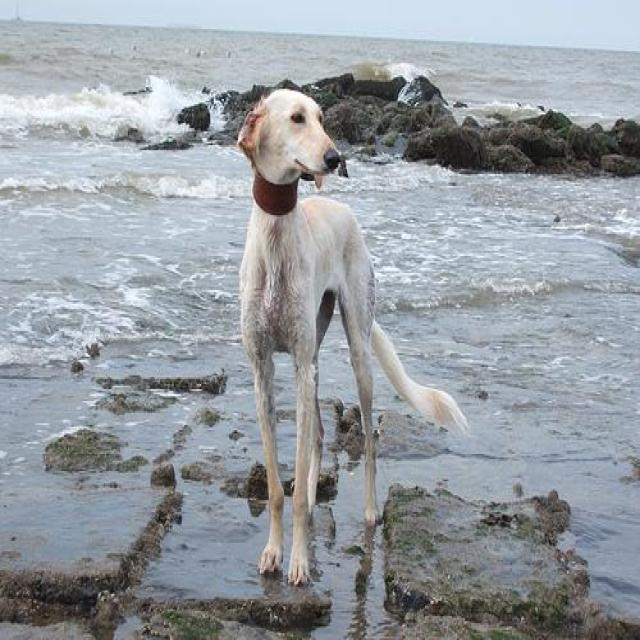saluki: (236, 87, 470, 587)
